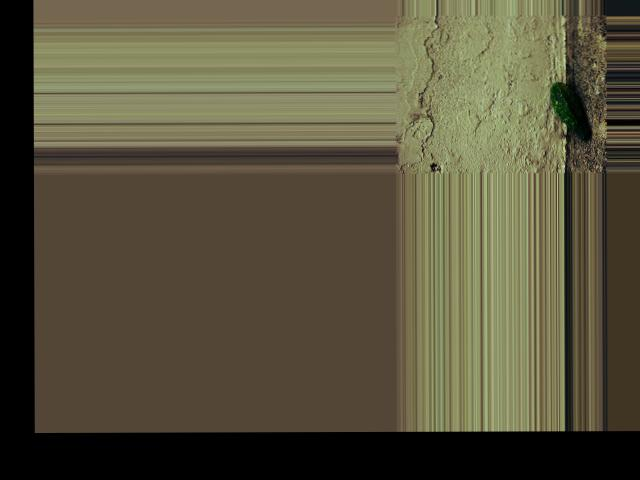cucumber: (549, 81, 590, 139)
